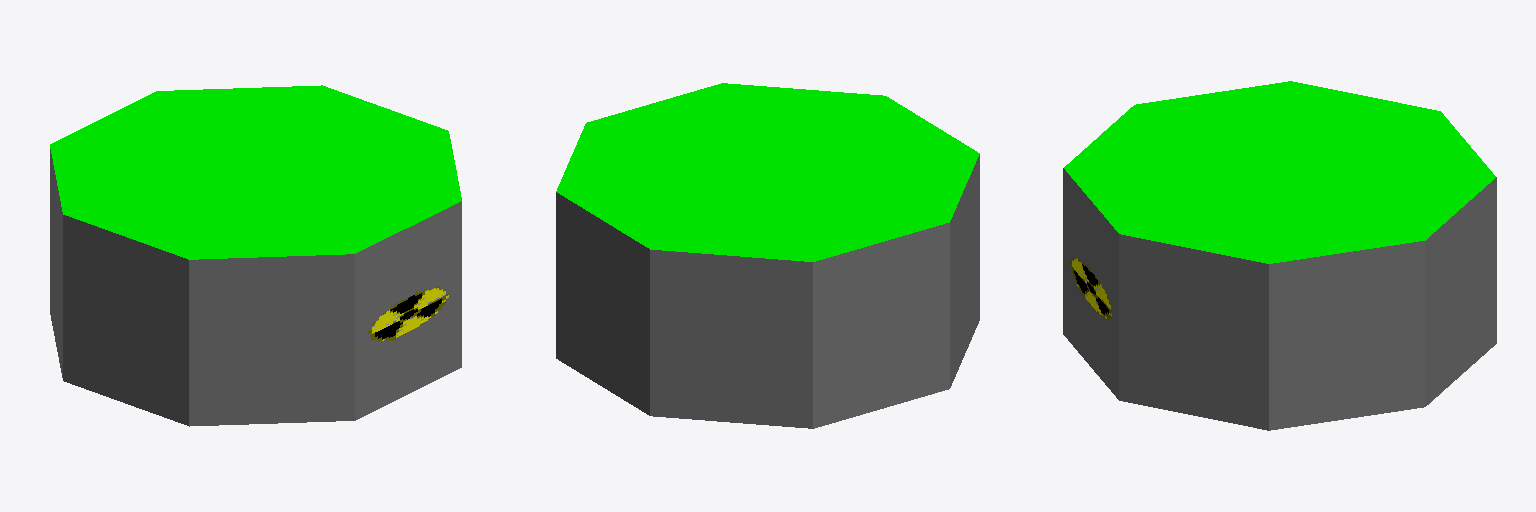
3 views of the same model, side by side, from view 1: azimuth 30°, elevation 25°; view 2: azimuth 150°, elevation 25°; view 3: azimuth 270°, elevation 25° (orthographic).
Size of the model in its own units: 2.82 by 1.2 by 2.83.
1 materials, 1 textured.